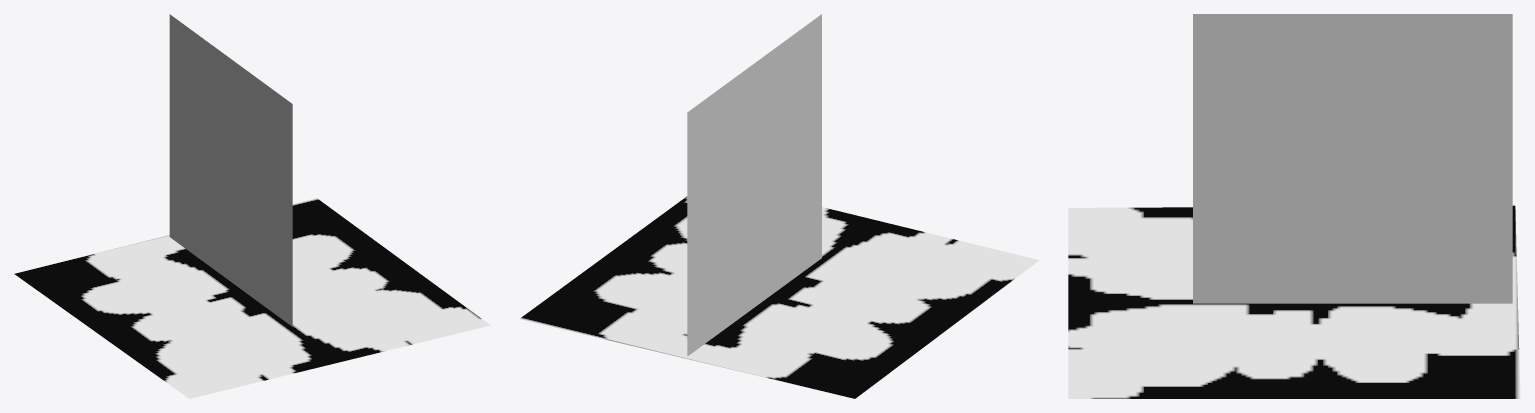
File: Sharkfin.fbx
3 views of the same model, side by side, from view 1: azimuth 30°, elevation 25°; view 2: azimuth 150°, elevation 25°; view 3: azimuth 270°, elevation 25° (orthographic). The views are drawn at different scales.
Parts seen in each view (by area): view 1: Cube; view 2: Cube; view 3: Cube.
Boxes of the visible parts, <box> form: Cube: <box>14,14,490,398</box>; Cube: <box>519,14,1039,398</box>; Cube: <box>1068,14,1520,398</box>.
Size of the model in its own units: 286 by 200 by 283.
